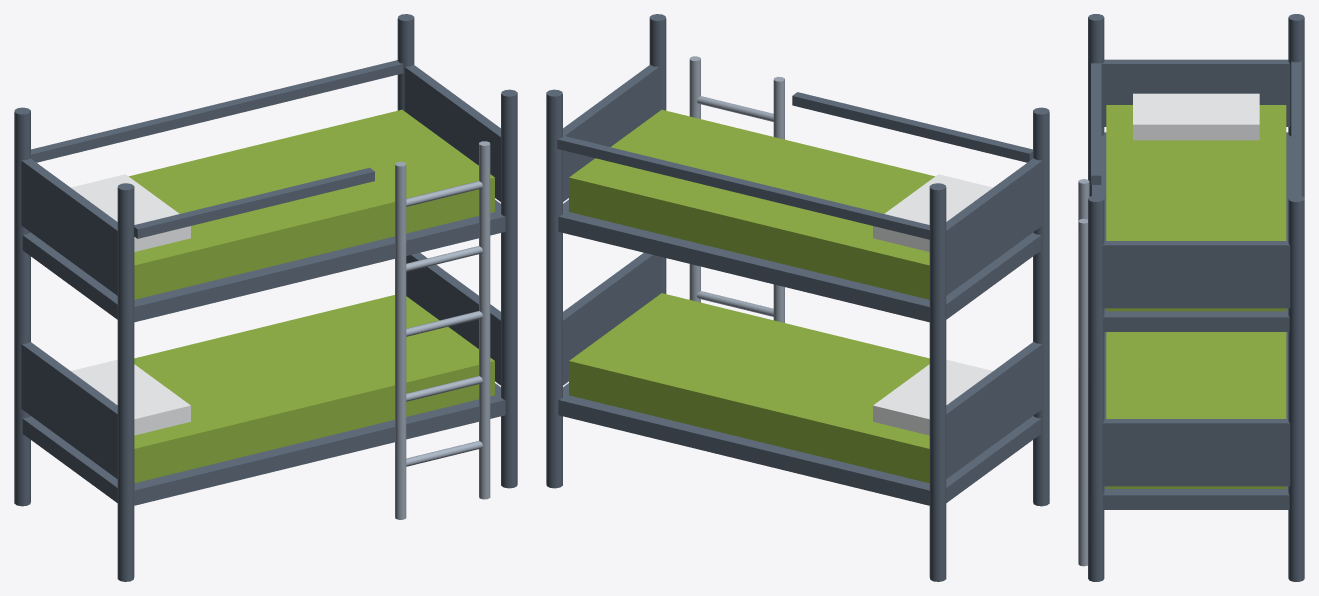
Rendered from bed_bunk_military.glb.
3 views of the same model, side by side, from view 1: azimuth 30°, elevation 25°; view 2: azimuth 150°, elevation 25°; view 3: azimuth 270°, elevation 25° (orthographic). The views are drawn at different scales.
Visible parts, largest first — view 1: bed_bunk_military; view 2: bed_bunk_military; view 3: bed_bunk_military.
Part boxes in pixels (x1,y1,x2,y2): bed_bunk_military: [14, 14, 517, 581]; bed_bunk_military: [546, 14, 1049, 581]; bed_bunk_military: [1078, 14, 1304, 581].
Bounding box in the file's own units: 2.18 × 2.05 × 1.11.
